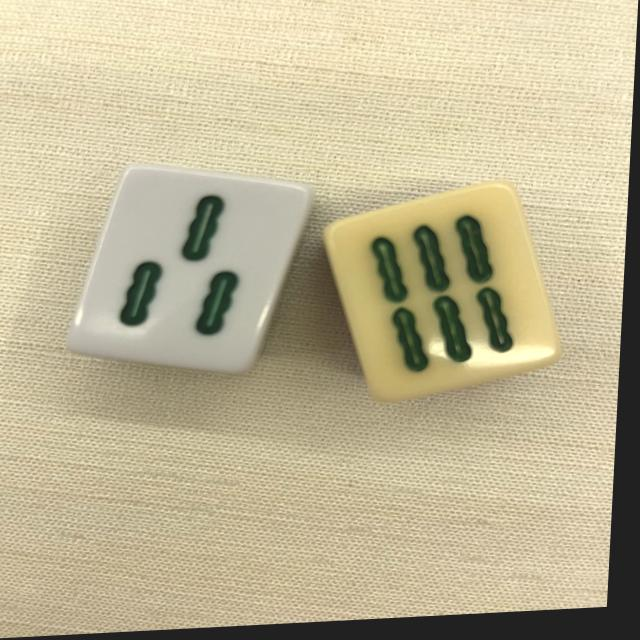3B: (64, 157, 314, 386)
6B: (310, 182, 564, 415)
